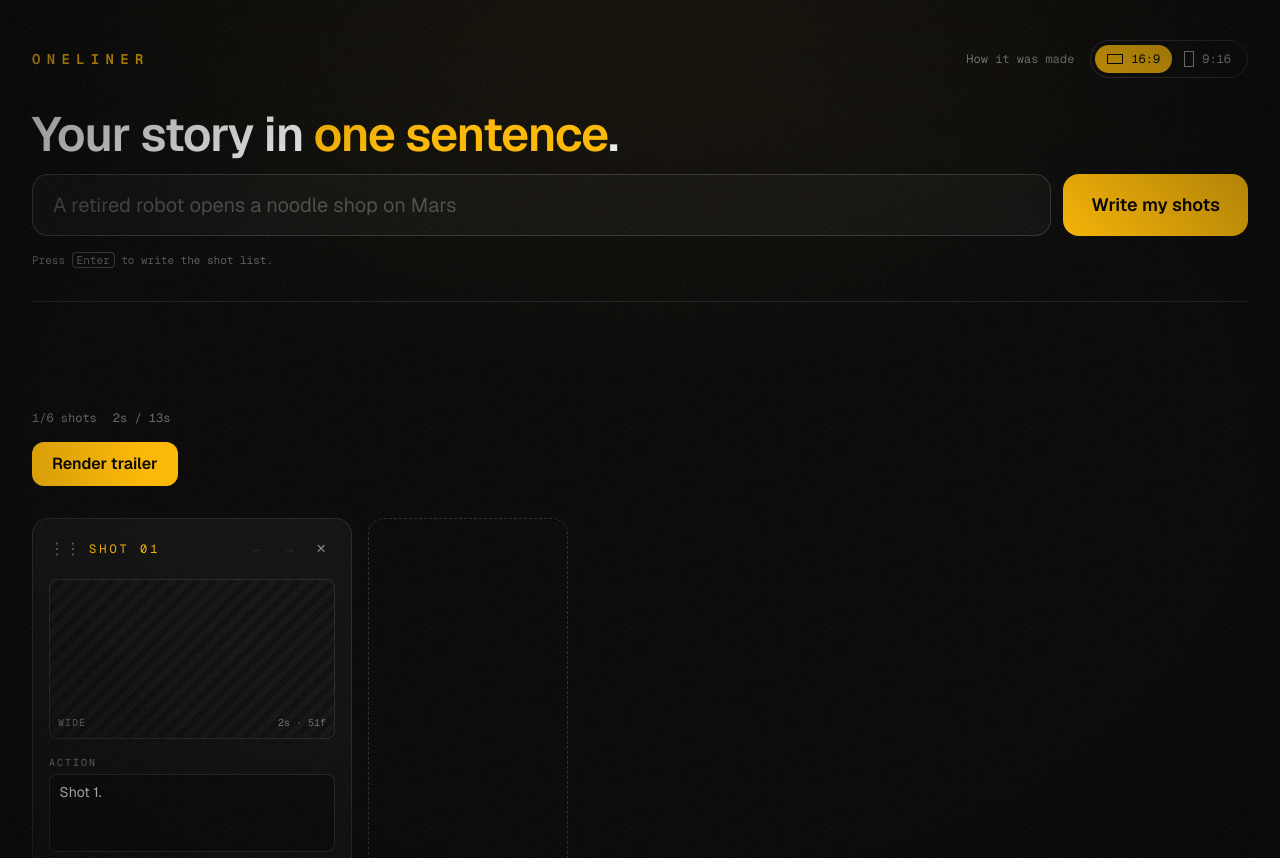
Test case: toasts › unauthorized -> toast
Click the button "Render trailer" at (105, 464), box [32,442,178,486]
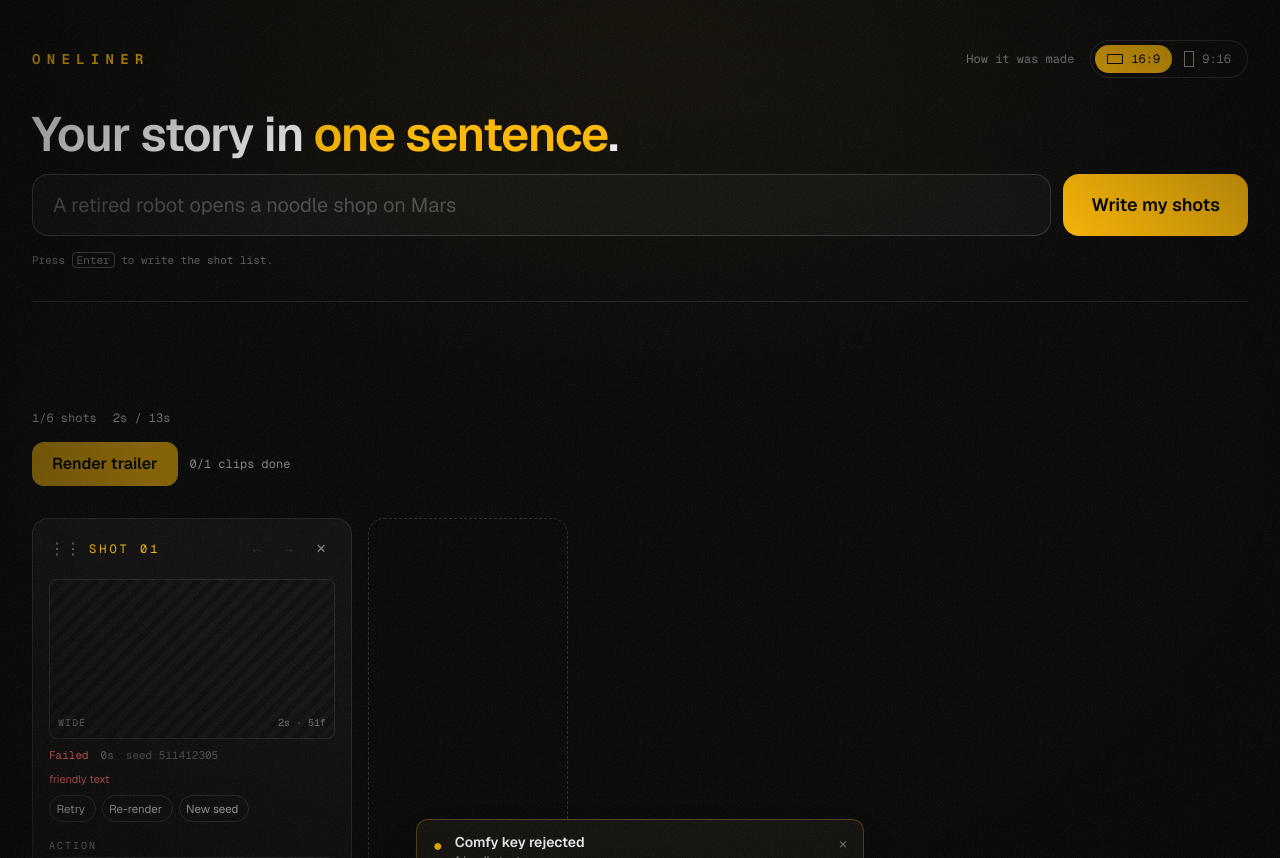
Expected: the text "Comfy key rejected" is shown, [455,832,585,850]
